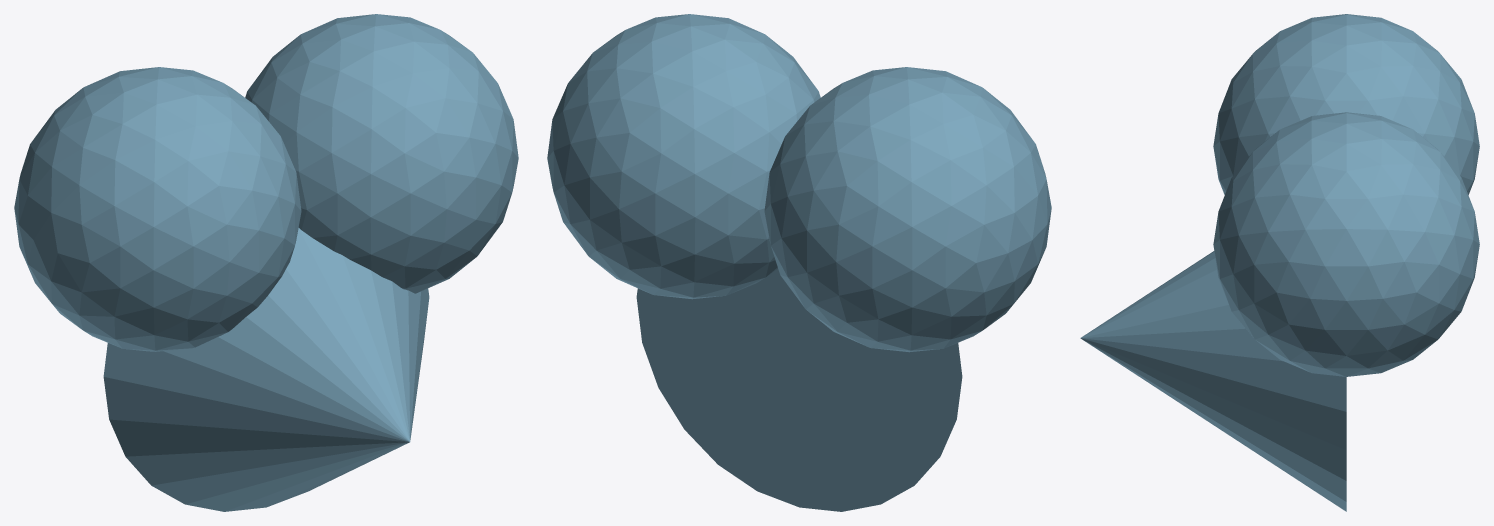
File: love_028.glb
The picture shows the model from 3 angles, left to right: view 1: azimuth 30°, elevation 25°; view 2: azimuth 150°, elevation 25°; view 3: azimuth 270°, elevation 25°; orthographic projection. The views are drawn at different scales.
Parts seen in each view (by area): view 1: world; view 2: world; view 3: world.
Part boxes in pixels (bbox=[...]): world: bbox=[14, 14, 518, 511]; world: bbox=[547, 14, 1051, 511]; world: bbox=[1080, 14, 1479, 511].
Size of the model in its own units: 2.06 by 1.92 by 1.65.
